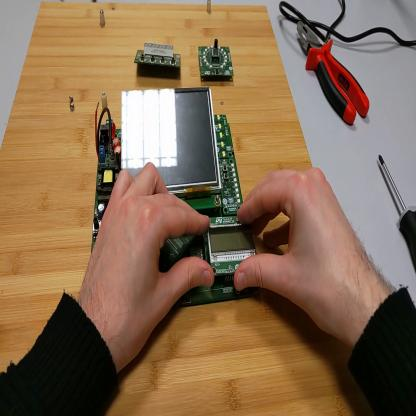hand: (85, 160, 214, 357), (235, 168, 371, 342)
low voltage board: (92, 93, 259, 314)
pliers: (298, 21, 371, 128)
screwdriver-: (380, 153, 416, 272)
working area: (1, 1, 378, 416)
